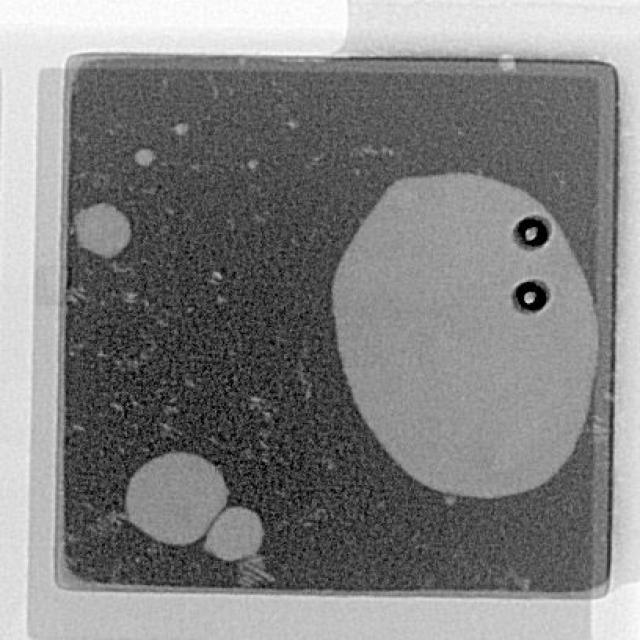component: (53, 56, 612, 588)
void: (333, 173, 601, 500), (125, 453, 229, 546), (204, 507, 265, 562), (75, 203, 132, 259), (135, 149, 154, 166), (173, 123, 187, 135)
